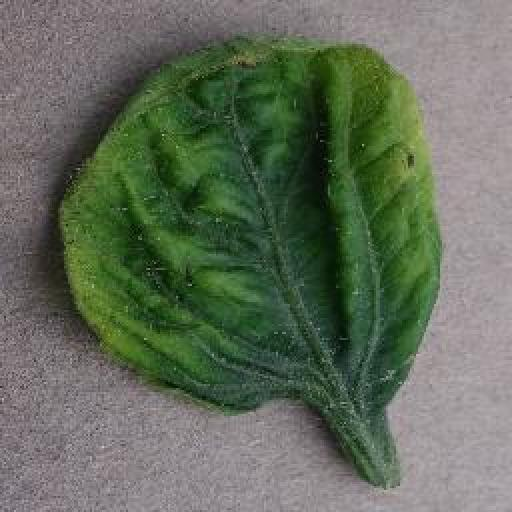Yellow Leaf Curl Virus: (58, 30, 442, 414)
